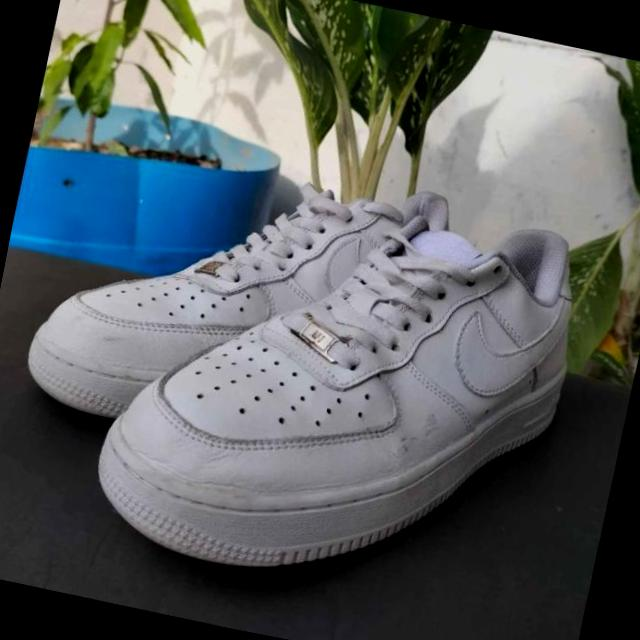nike_original_airforce: (82, 146, 640, 638), (15, 117, 462, 483)
